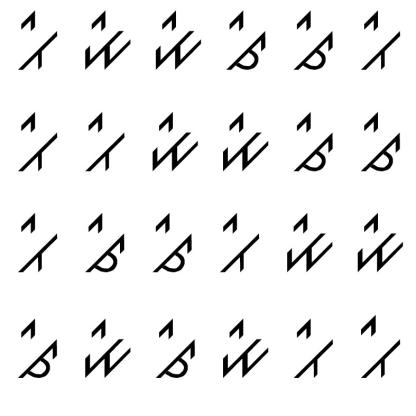bi: (7, 108, 65, 178), (7, 4, 64, 74), (352, 312, 404, 388), (75, 106, 131, 176), (212, 206, 264, 281), (9, 208, 62, 278), (284, 314, 336, 385), (358, 5, 405, 77)
ci: (8, 308, 64, 384), (288, 108, 340, 179), (146, 206, 198, 277), (218, 6, 272, 74), (351, 111, 405, 178), (80, 209, 129, 277), (148, 315, 198, 381), (286, 8, 336, 74)
mi: (214, 108, 278, 175), (209, 315, 271, 382), (145, 108, 202, 179), (348, 209, 406, 276), (145, 8, 204, 72), (76, 315, 133, 380), (76, 9, 134, 71), (280, 210, 335, 275)
